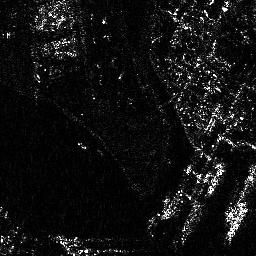ship: (225, 205, 250, 242), (205, 162, 226, 195)
